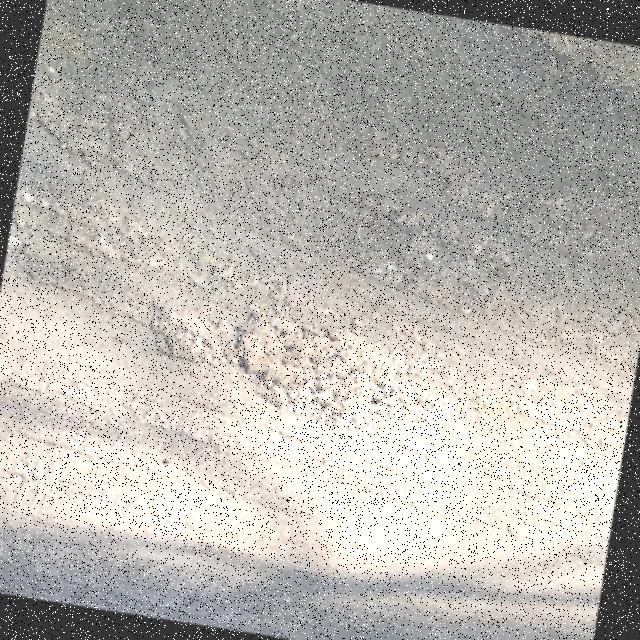Pothole: (233, 309, 410, 412)
